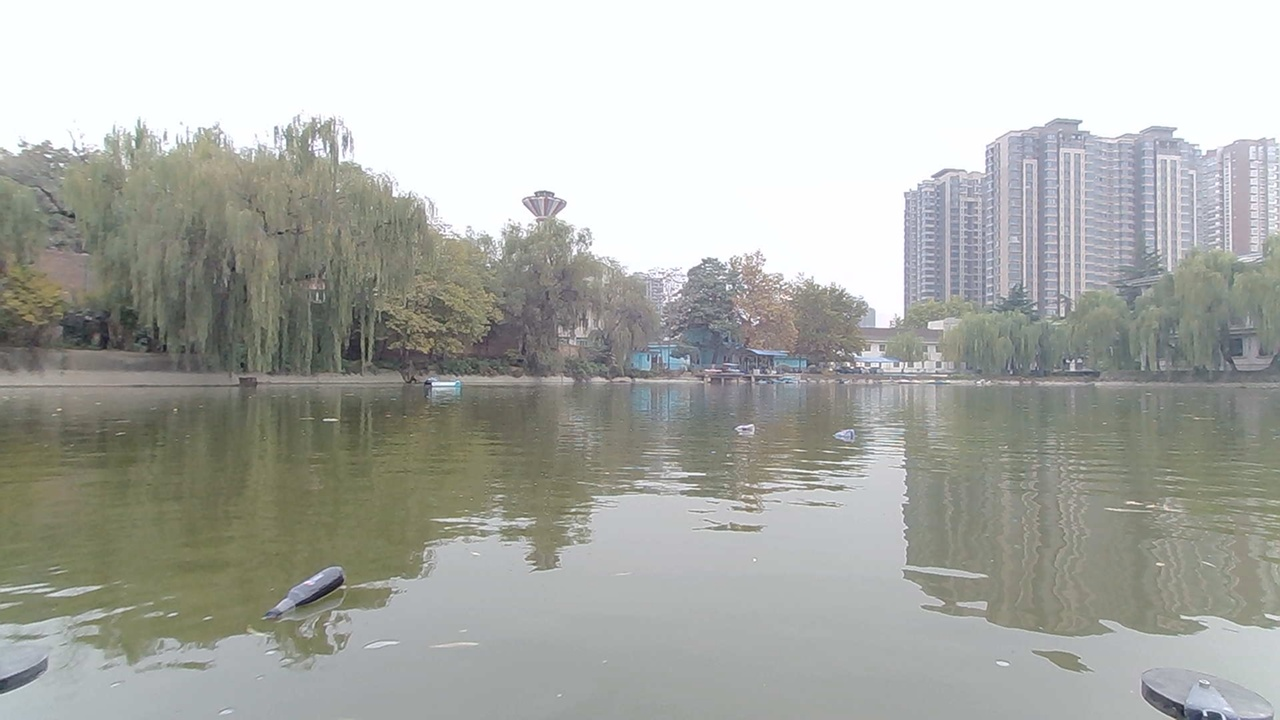bottle: (278, 568, 357, 618), (726, 414, 765, 440), (835, 428, 868, 445)
